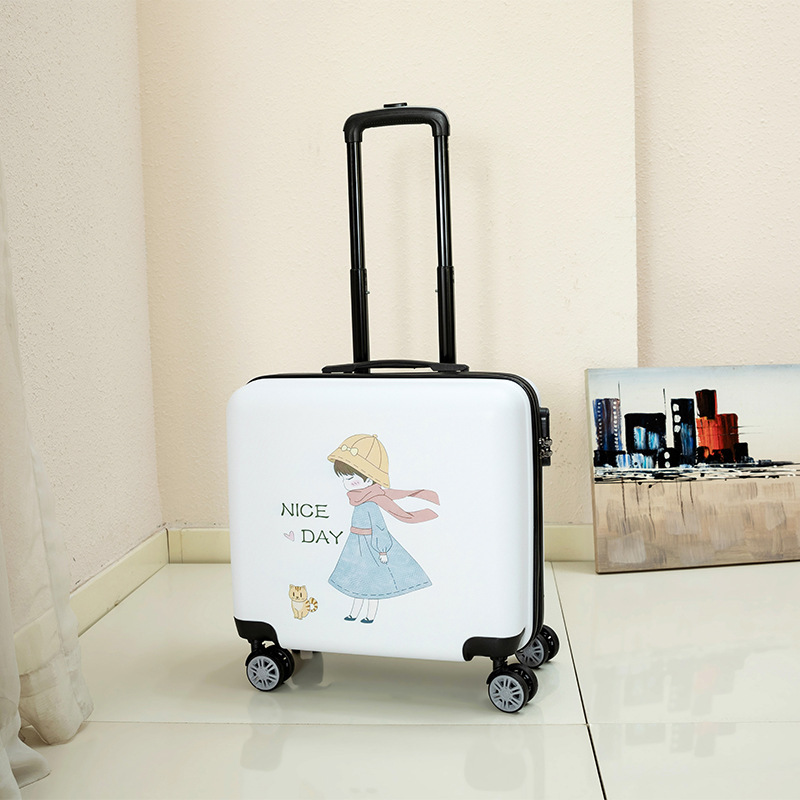box: (228, 375, 544, 661)
handle: (322, 359, 469, 373)
wheel: (487, 663, 539, 714), (244, 646, 295, 692), (516, 624, 560, 668)
